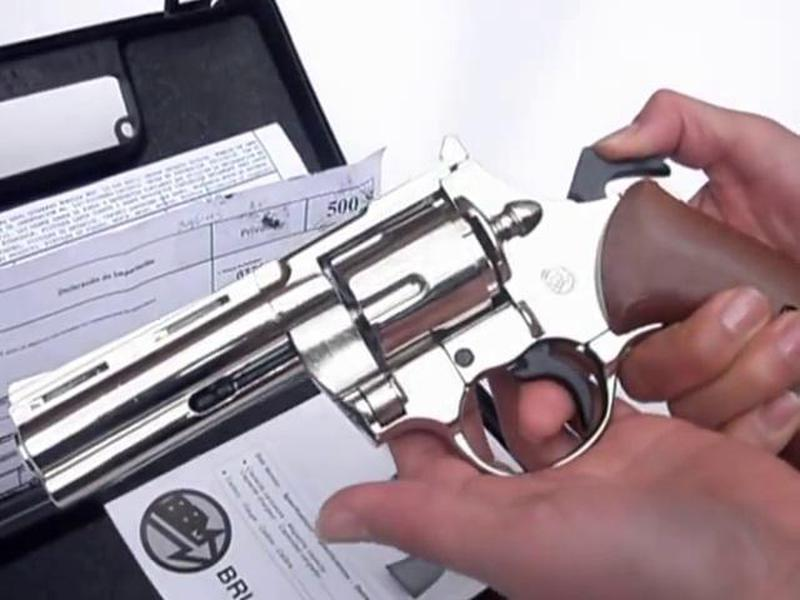Revolver: (26, 154, 800, 505)
